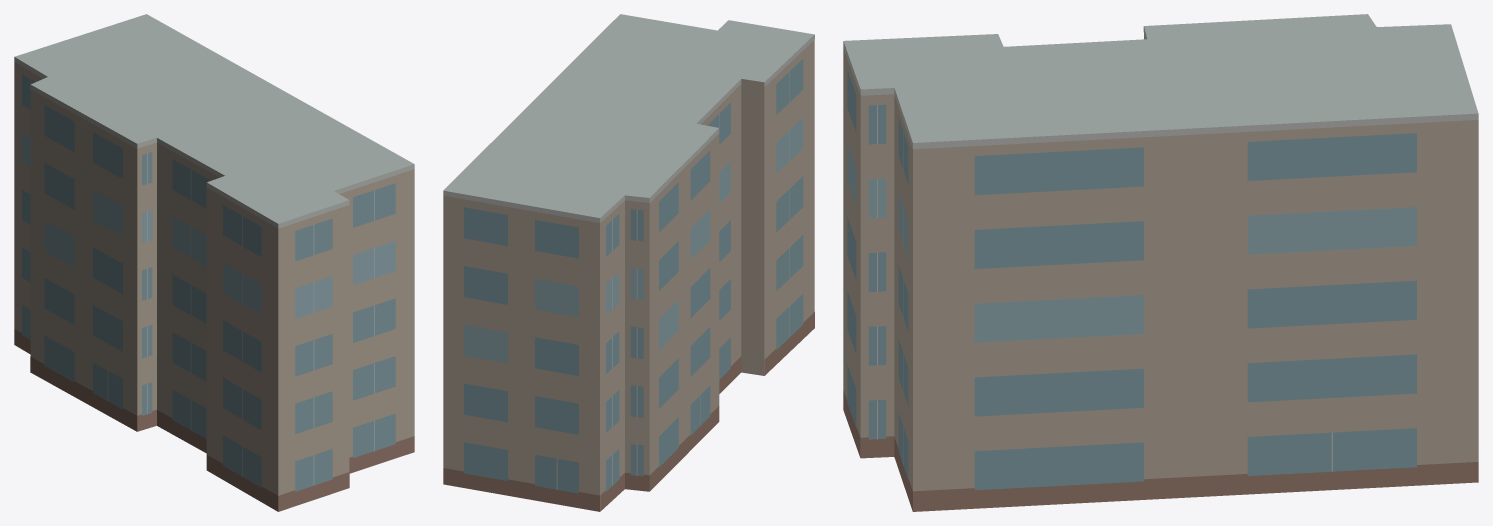
The model's file is survey-upis-32752043.glb.
3 renders of one model, left to right at view 1: azimuth 30°, elevation 25°; view 2: azimuth 150°, elevation 25°; view 3: azimuth 270°, elevation 25°, orthographic. The views are drawn at different scales.
Visible parts, largest first — view 1: survey-upis-32752043.tmp; view 2: survey-upis-32752043.tmp; view 3: survey-upis-32752043.tmp.
Part boxes in pixels (x1,y1,x2,y2): survey-upis-32752043.tmp: (14, 14, 414, 511); survey-upis-32752043.tmp: (443, 14, 814, 511); survey-upis-32752043.tmp: (843, 14, 1478, 511).
Size of the model in its own units: 10.74 by 14.3 by 22.33.
